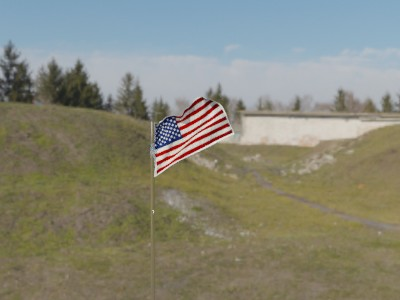America flag: (153, 96, 235, 177)
